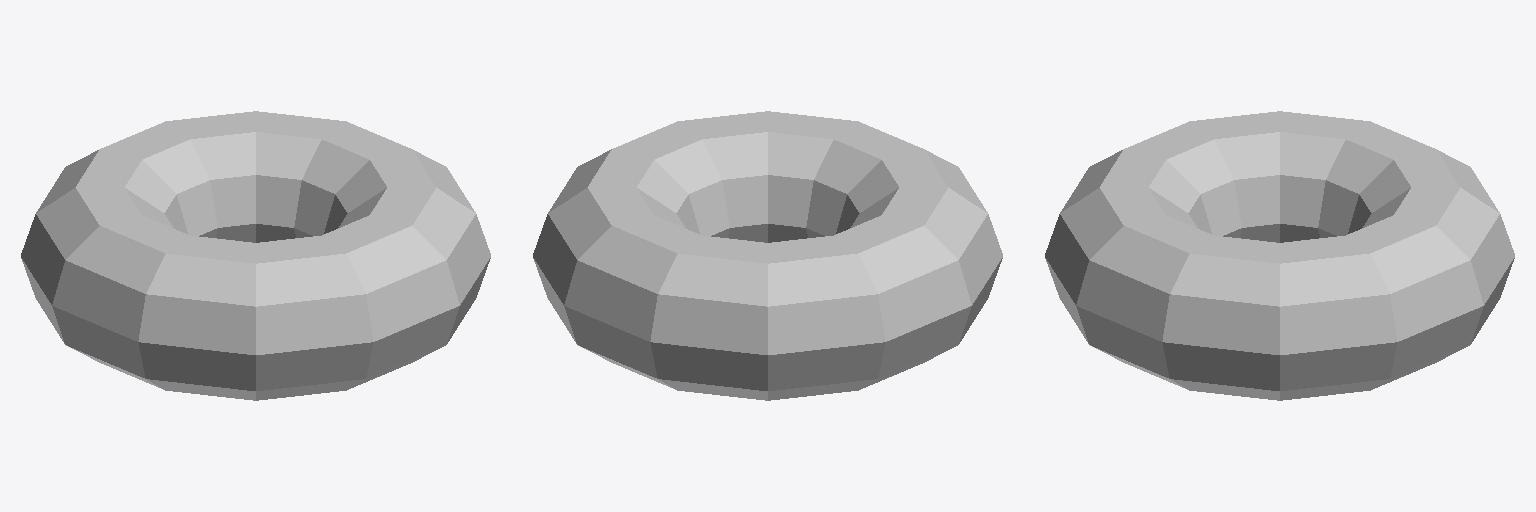
Rendered from Donut_Topping.obj.
3 renders of one model, left to right at view 1: azimuth 30°, elevation 25°; view 2: azimuth 150°, elevation 25°; view 3: azimuth 270°, elevation 25°, orthographic.
Visible parts, largest first — view 1: Donut; view 2: Donut; view 3: Donut.
Boxes of the visible parts, box(x1,y1,x2,y2) form: Donut: box(21, 111, 490, 400); Donut: box(533, 111, 1002, 400); Donut: box(1045, 111, 1514, 400).
Bounding box in the file's own units: 1.48 × 0.4755 × 1.48.